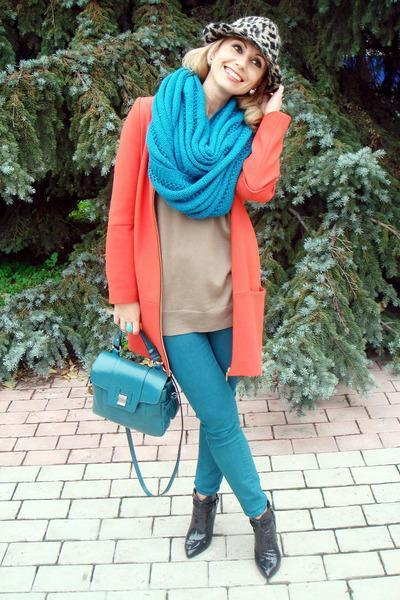bag: (79, 327, 182, 495)
hat: (201, 16, 287, 76)
jacket: (103, 96, 290, 379)
pants: (166, 327, 275, 515)
shirt: (153, 190, 233, 338)
shoe: (163, 492, 289, 585)
